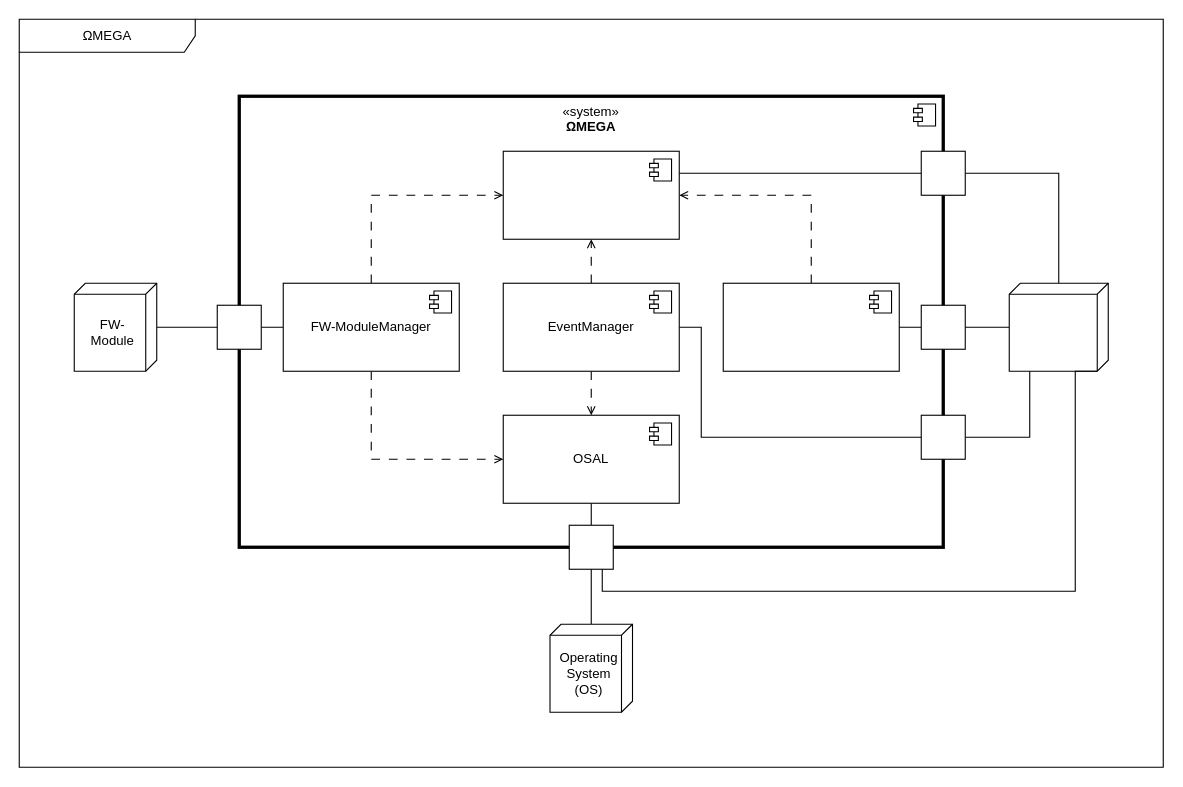
The diagram is 1183 pixels wide and 787 high, and some of its shapes have lost their labels. Each missing label, with the centre of its shape:
Component: the point at 1058,326
ComponentManager: the point at 810,326
Logger: the point at 590,194
